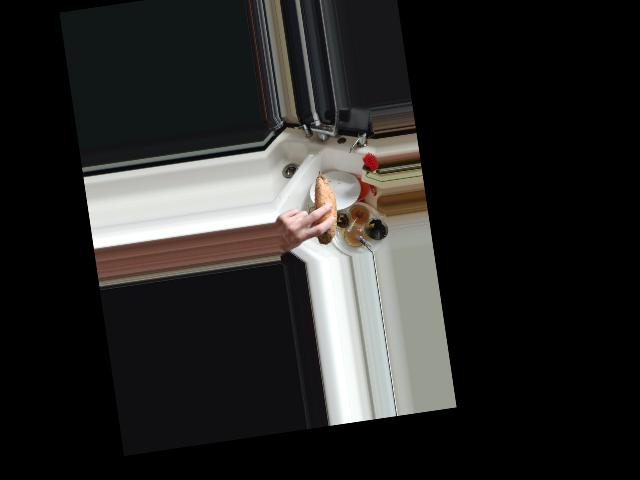sweet_potato: (303, 166, 341, 248)
